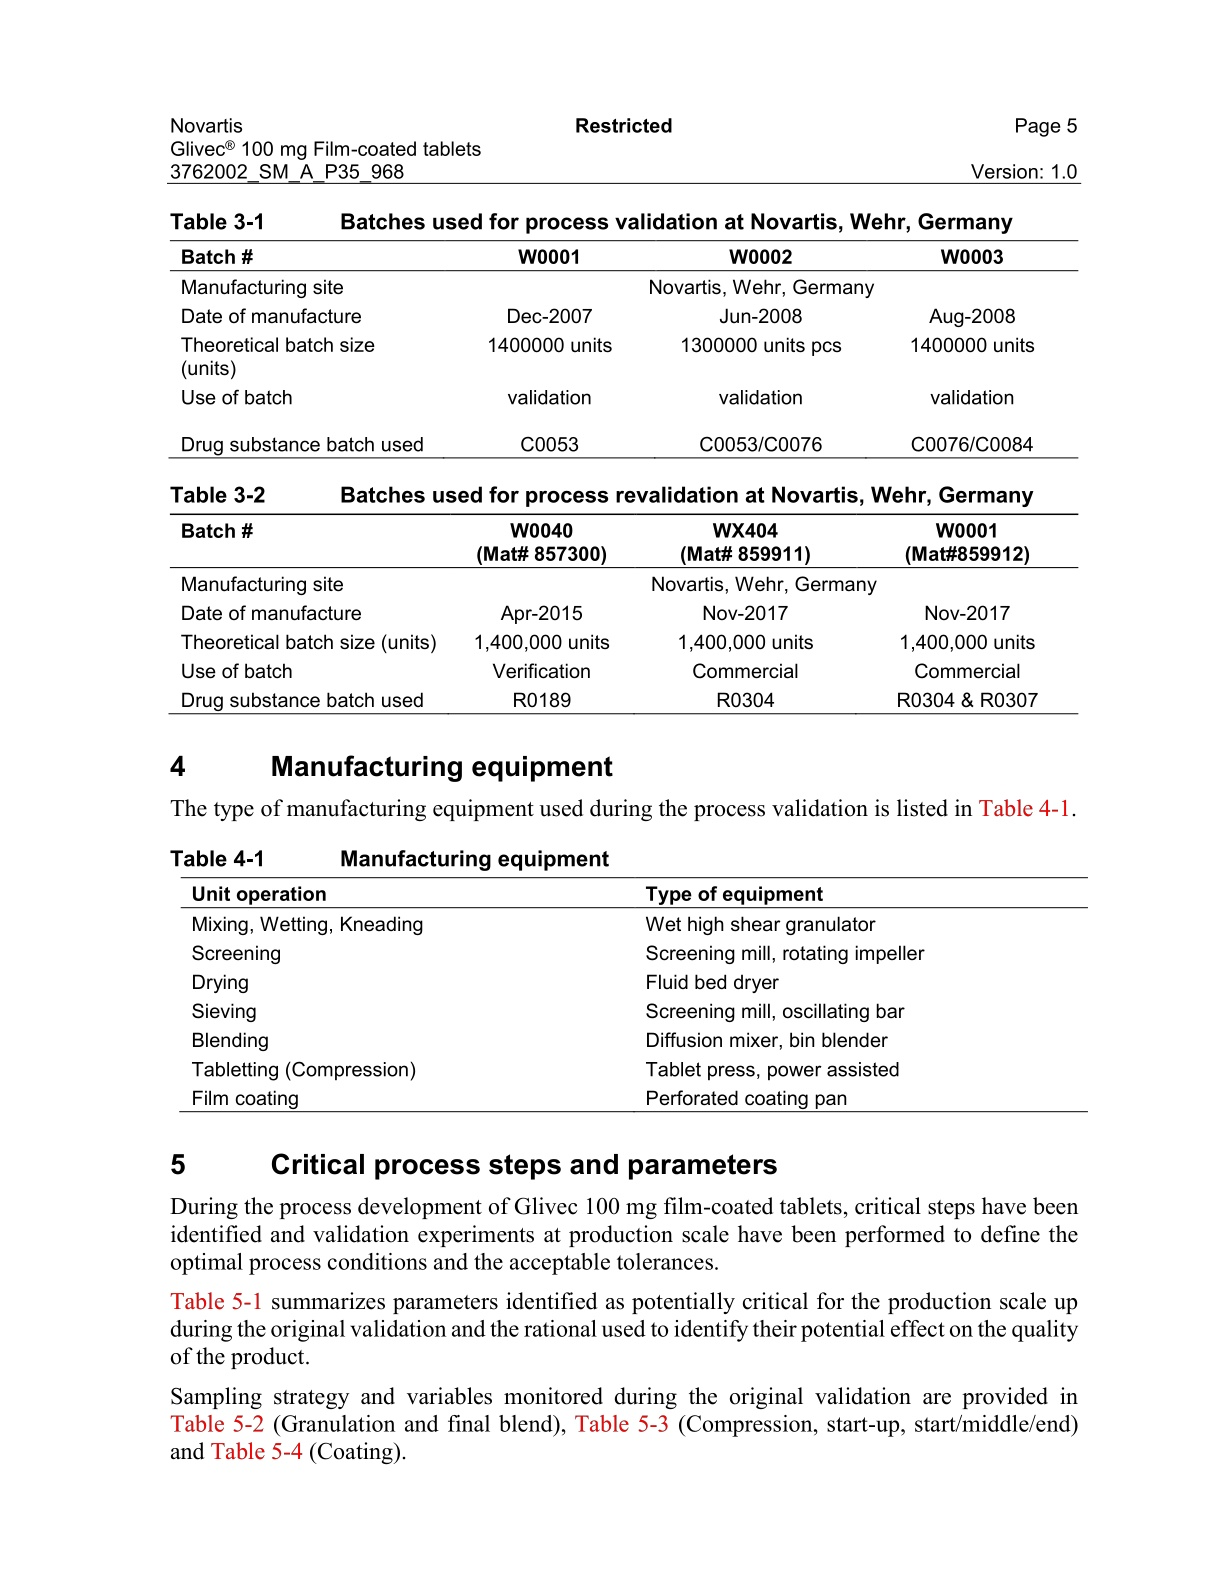partial_lined: (177, 876, 1089, 1113), (168, 237, 1083, 460), (168, 512, 1080, 715)
